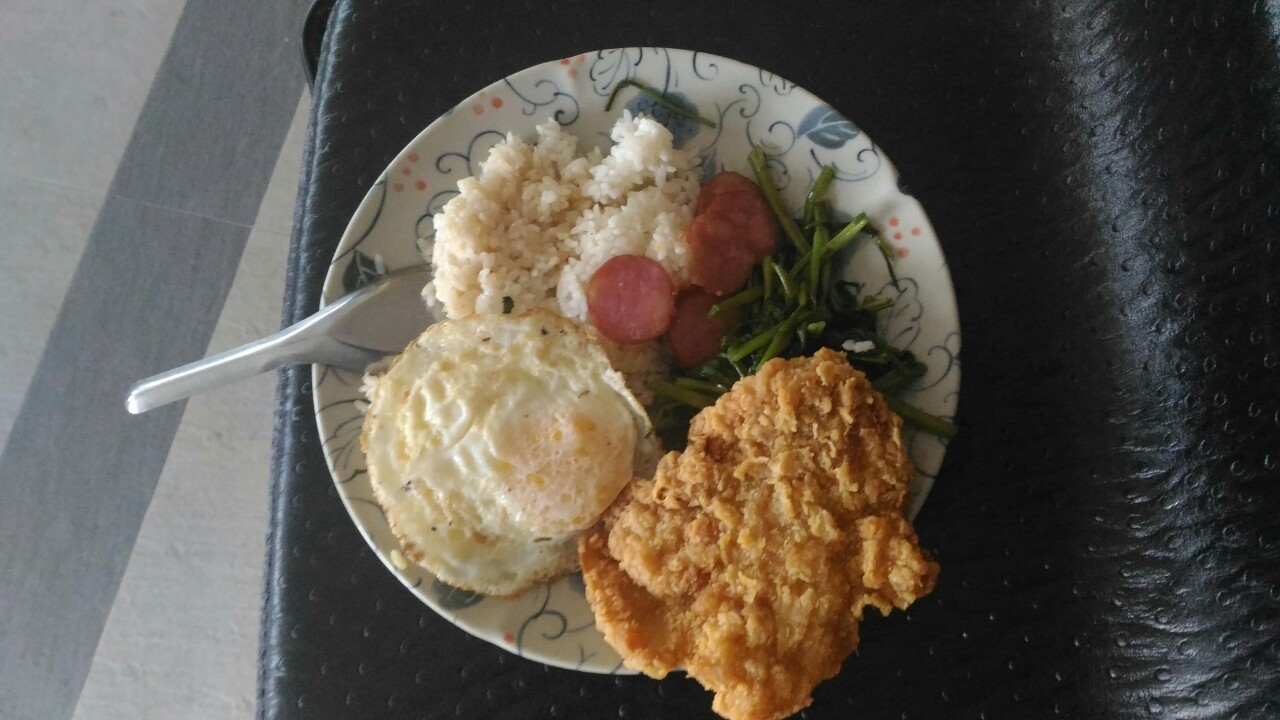chinese_sausage: (588, 173, 765, 364)
fried_chicken: (588, 348, 944, 720)
fried_eggs: (358, 311, 645, 590)
rice: (447, 124, 653, 308)
water_spinach: (743, 194, 859, 375)
